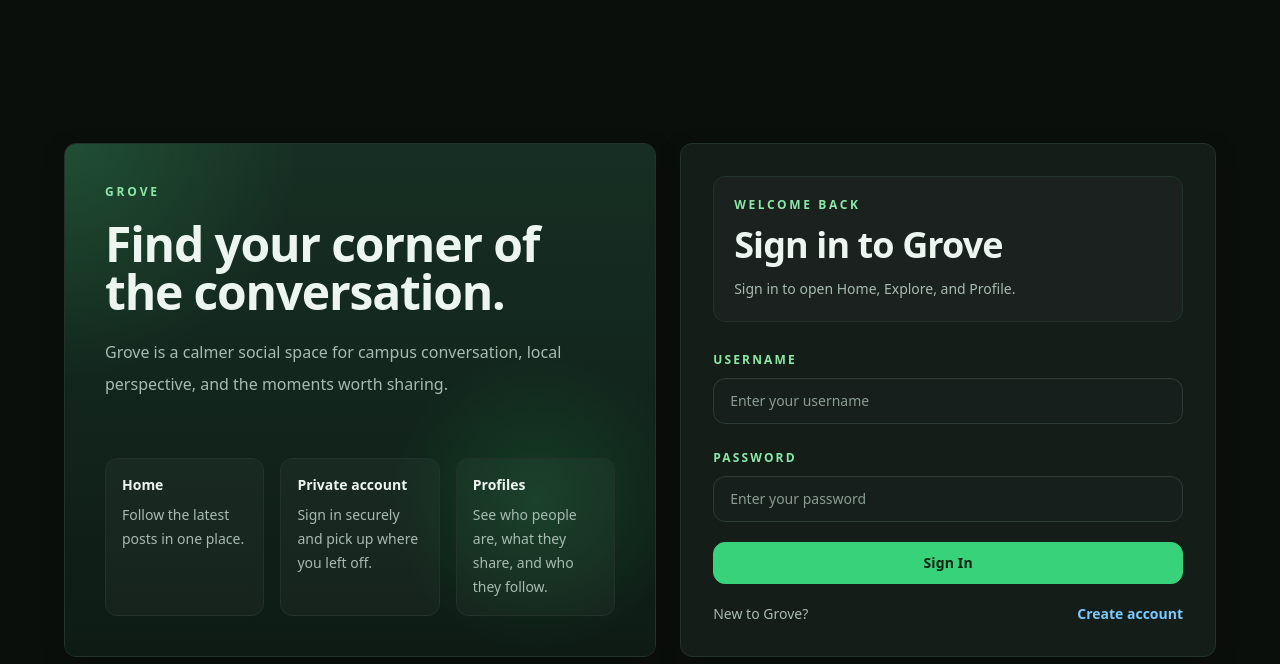
Scenario: LoginPage › stores token and navigates to /home on successful login
Type "lucas" into the field labelled "Username". click: [948, 401]
box: [713, 378, 1183, 424]
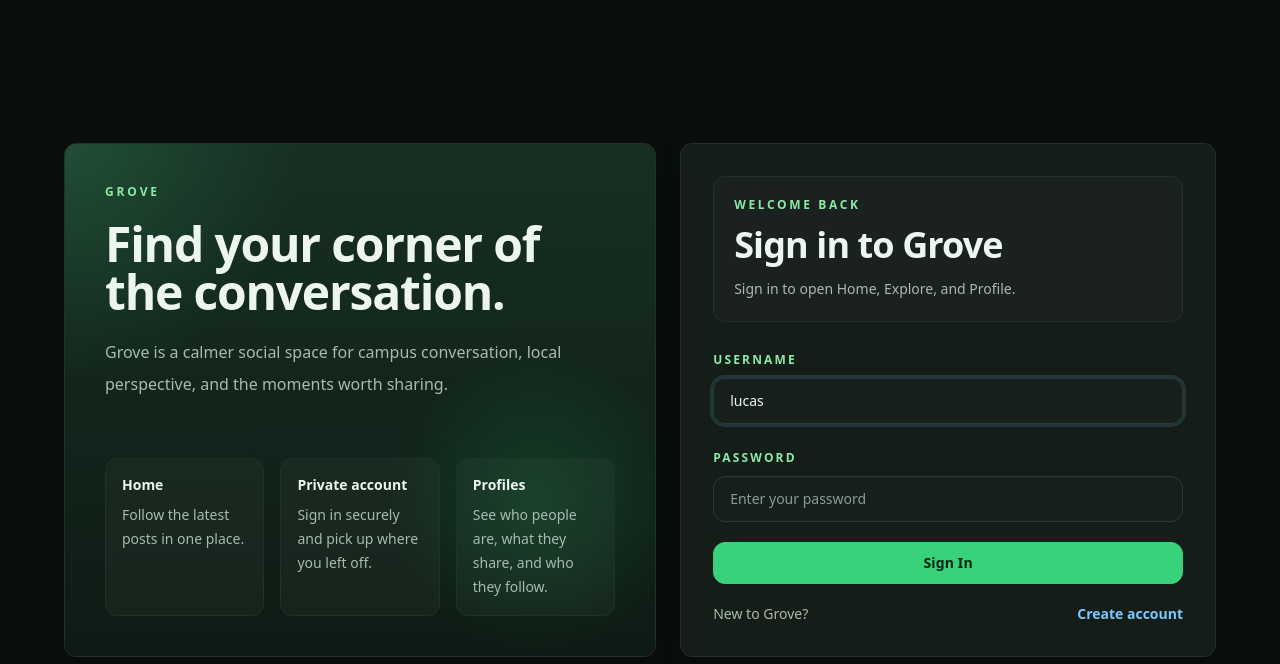
Type "Password1" into the password field labelled "Password". click: [948, 499]
box: [713, 476, 1183, 522]
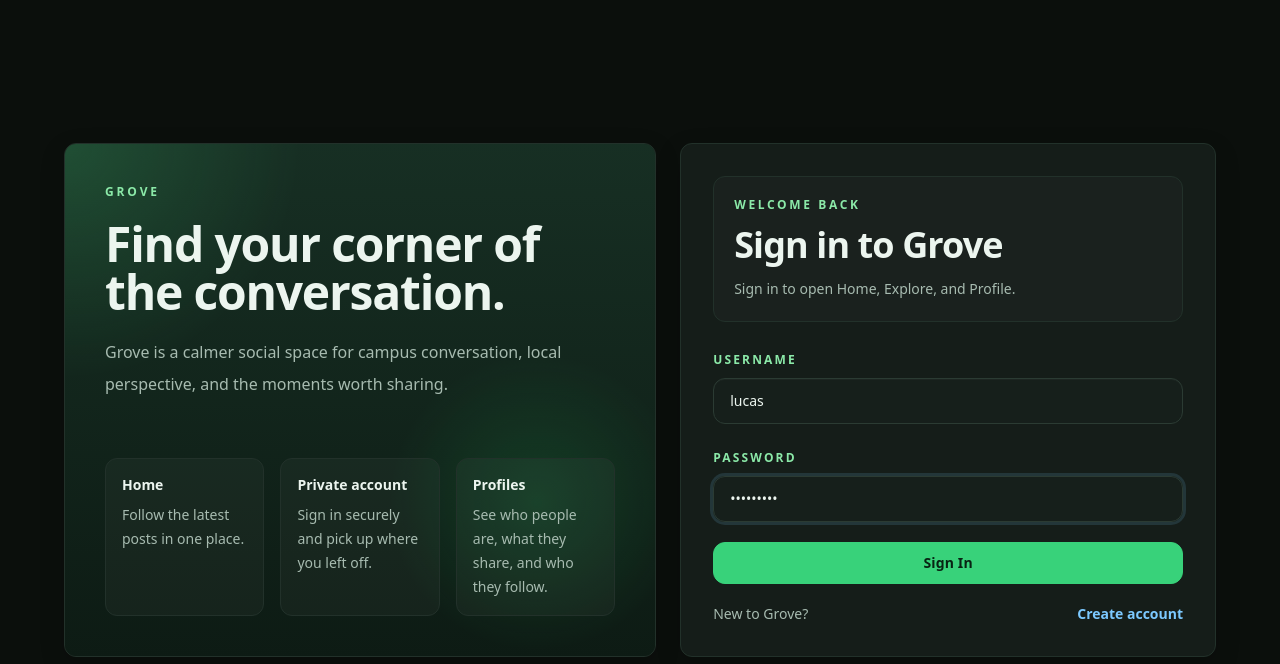
Click the button "Sign In". click: [948, 563]
box: [713, 542, 1183, 584]
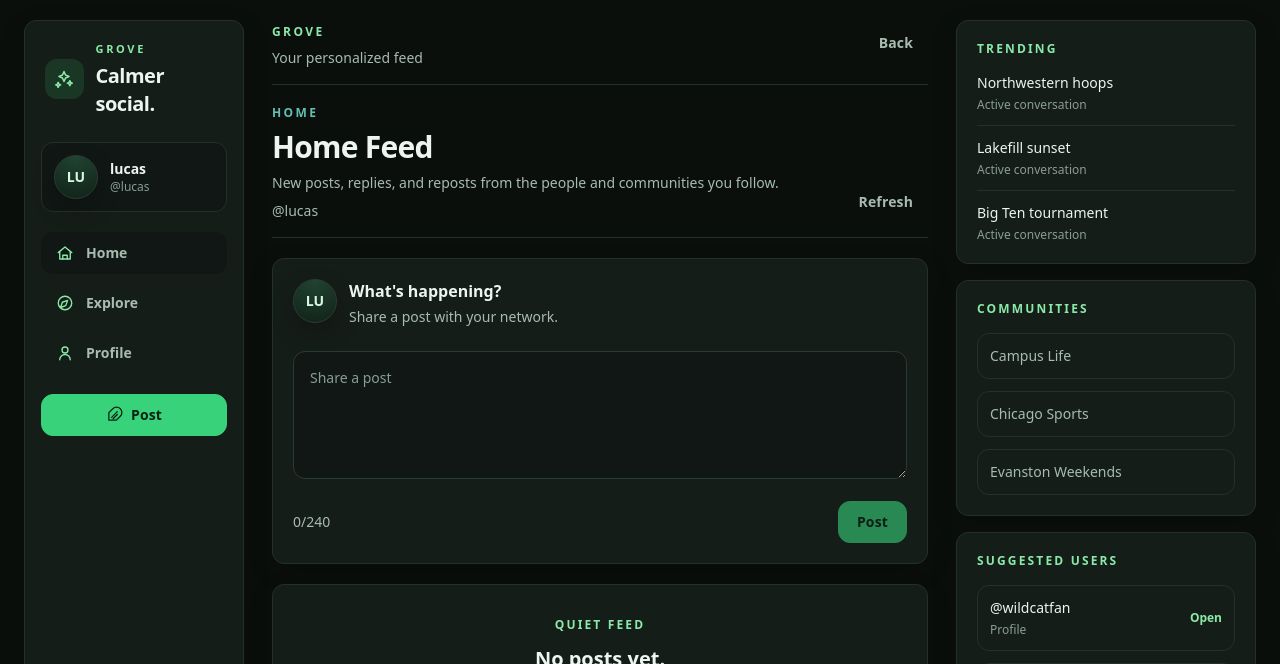
expect the heading "Home Feed" is shown: met, box [272, 126, 433, 167]
